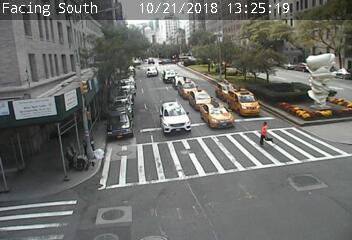car: (159, 102, 190, 134), (201, 101, 233, 129), (228, 89, 259, 116), (190, 89, 214, 111), (178, 79, 199, 99), (215, 81, 236, 100), (173, 76, 188, 90), (162, 70, 178, 83), (146, 66, 158, 77)
